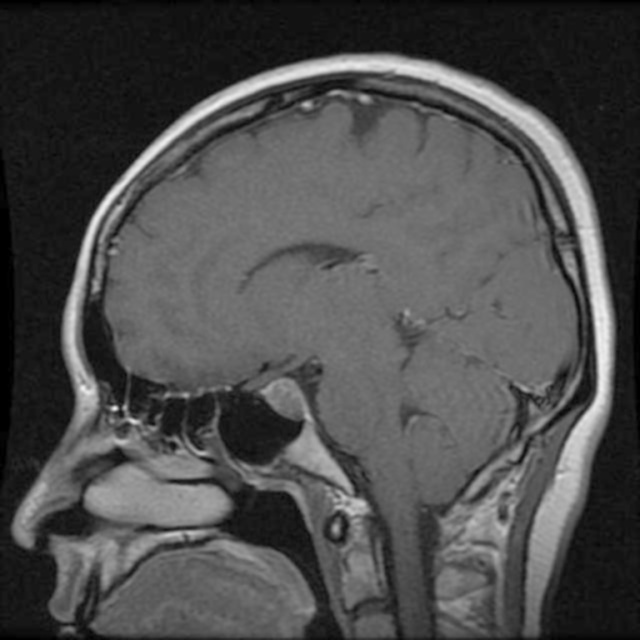no tumor: (263, 375, 315, 431)
